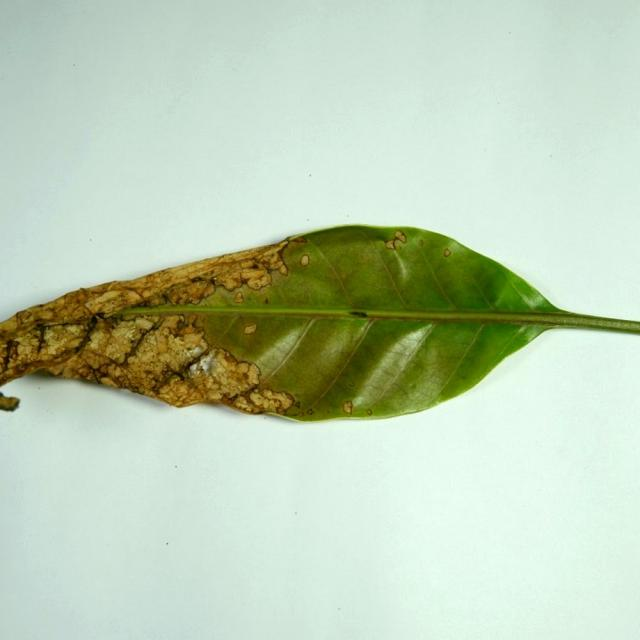Anthracnose: (287, 324, 377, 415), (11, 368, 150, 417), (420, 328, 493, 407), (301, 232, 372, 307), (185, 330, 257, 382), (421, 238, 471, 310), (492, 263, 553, 311), (293, 223, 404, 249), (540, 313, 639, 335), (70, 314, 106, 363), (122, 316, 160, 361), (166, 279, 214, 305), (512, 324, 550, 345), (37, 318, 87, 331), (259, 405, 299, 420), (165, 357, 190, 380), (30, 366, 64, 382), (112, 310, 147, 322), (180, 315, 203, 333), (5, 339, 19, 364), (104, 281, 133, 293), (34, 323, 48, 345), (485, 292, 505, 307), (72, 288, 91, 303), (16, 310, 35, 325), (274, 239, 293, 254), (1, 317, 18, 332), (37, 308, 58, 320), (432, 392, 446, 408), (284, 233, 306, 242), (243, 323, 257, 334), (234, 291, 244, 304), (300, 254, 310, 267), (190, 276, 206, 283), (250, 262, 262, 271), (279, 264, 288, 275), (178, 314, 186, 324), (211, 277, 218, 284), (294, 401, 301, 408), (264, 296, 269, 304), (238, 314, 243, 321)
Mango: (0, 225, 639, 425)
